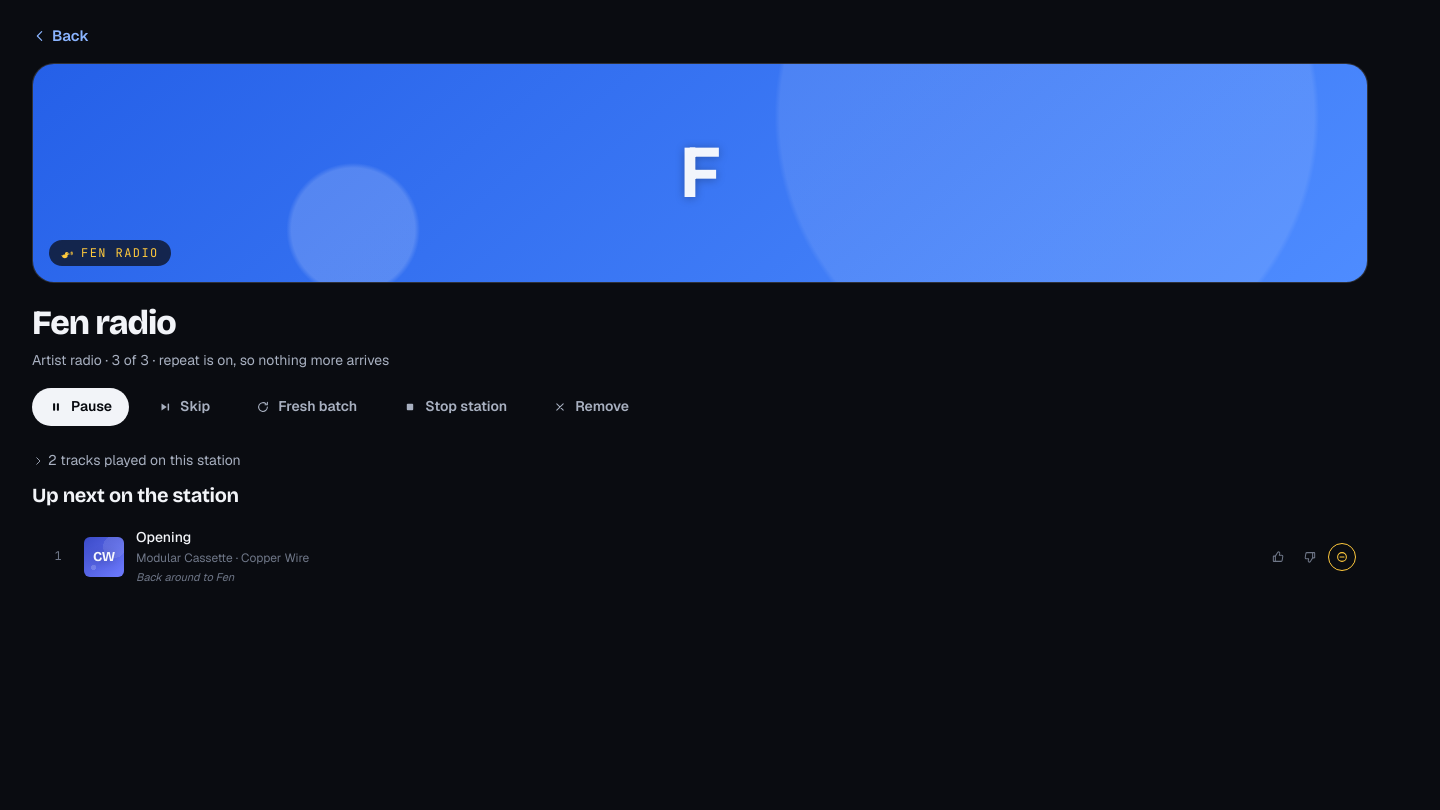
the station page › says when repeat means nothing more arrives, and unfolds what has played
Expected: the text "Artist radio · 3 of 3 · repeat is on, so nothing more arrives" is shown, [32,351,389,369]
Expected: the text "Second Light" is not shown
Click the button "2 tracks played on this station" at point(136, 461), box [32,450,241,472]
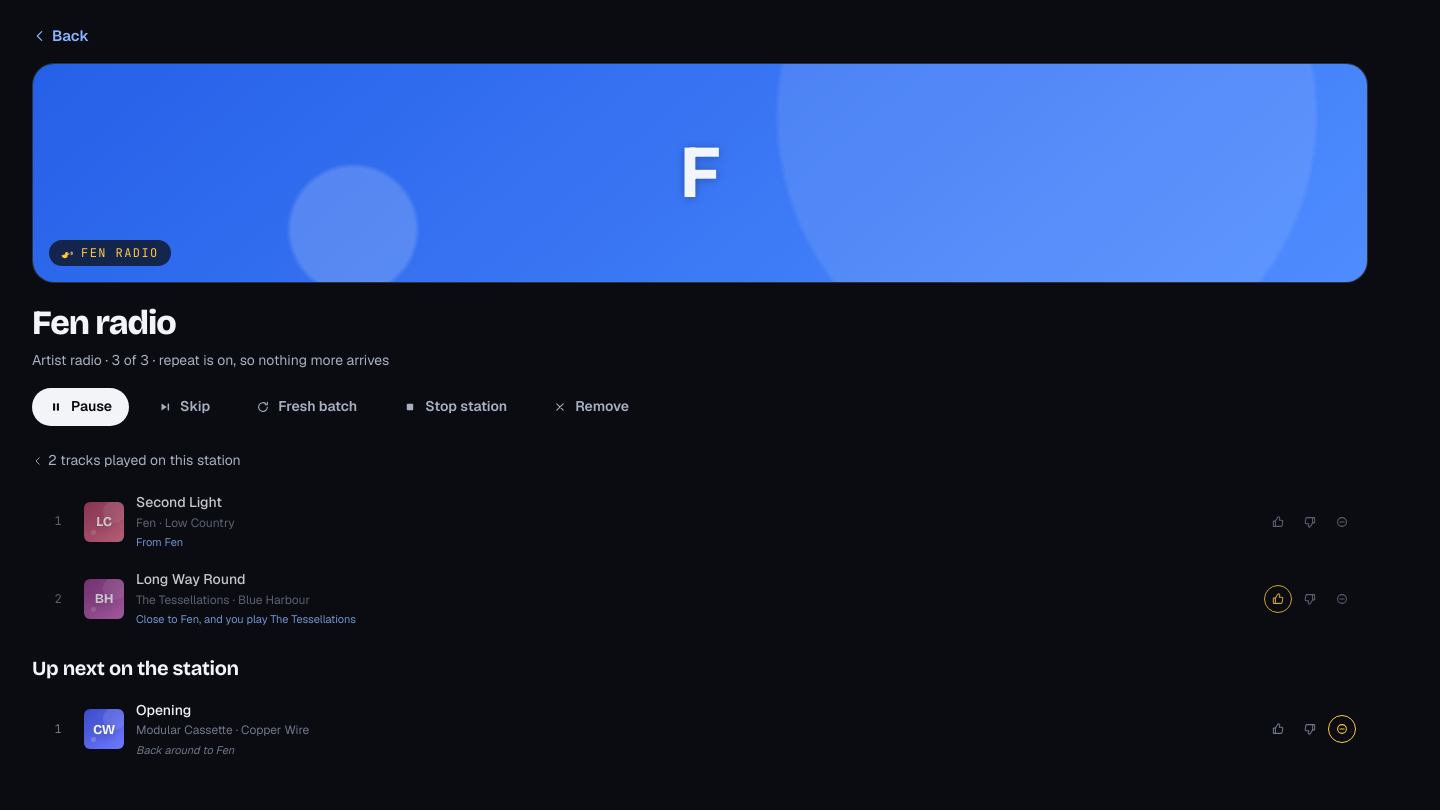
Now the text "Second Light" is shown, box [136,493,222,511]
